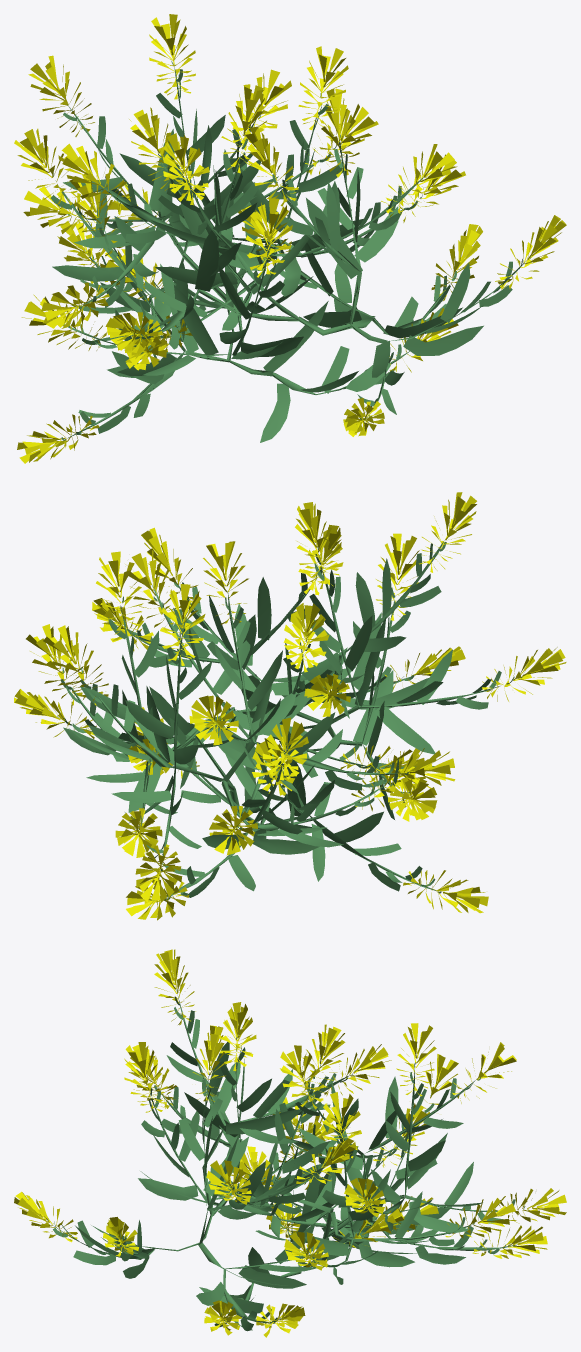
File: Flowers.fbx
The picture shows the model from 3 angles, top to bottom: view 1: azimuth 30°, elevation 25°; view 2: azimuth 150°, elevation 25°; view 3: azimuth 270°, elevation 25°; orthographic projection. The views are drawn at different scales.
Visible parts, largest first — view 1: Flowers; view 2: Flowers; view 3: Flowers.
Boxes of the visible parts, x1,y1,x2,y2 form: Flowers: (14, 14, 566, 463); Flowers: (14, 492, 566, 920); Flowers: (14, 949, 566, 1337).
Size of the model in its own units: 3.81 by 2.77 by 4.54.
